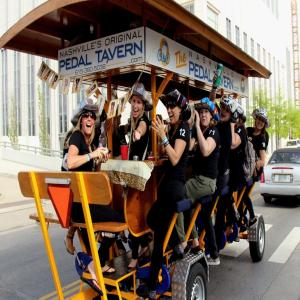Vehicle-registration-plate: (276, 175, 293, 185)
